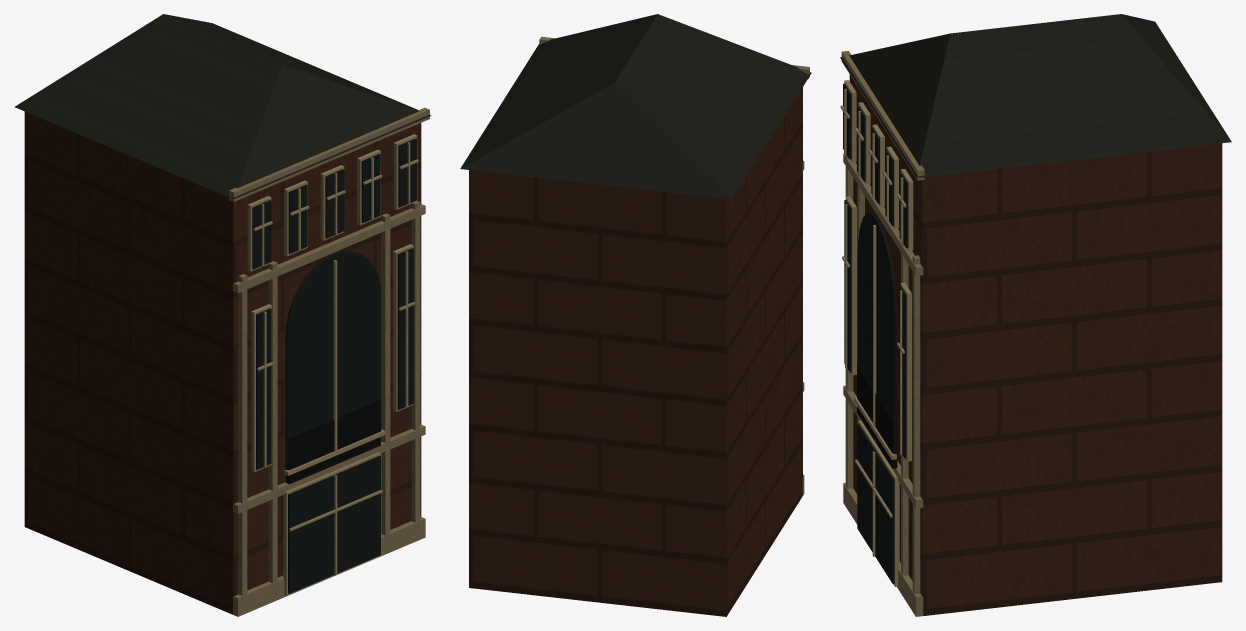
3 views of the same model, side by side, from view 1: azimuth 30°, elevation 25°; view 2: azimuth 150°, elevation 25°; view 3: azimuth 270°, elevation 25° (orthographic). The views are drawn at different scales.
Parts seen in each view (by area): view 1: asta-hoogstraat-0, asta-hoogstraat-1, asta-hoogstraat-5, asta-hoogstraat-2, asta-hoogstraat-4, asta-hoogstraat-3; view 2: asta-hoogstraat-0, asta-hoogstraat-1; view 3: asta-hoogstraat-0, asta-hoogstraat-1, asta-hoogstraat-5, asta-hoogstraat-2, asta-hoogstraat-4, asta-hoogstraat-3.
Boxes of the visible parts, bbox=[...] form: asta-hoogstraat-0: bbox=[24, 111, 421, 614]; asta-hoogstraat-1: bbox=[15, 14, 431, 199]; asta-hoogstraat-5: bbox=[252, 138, 416, 593]; asta-hoogstraat-2: bbox=[229, 107, 429, 616]; asta-hoogstraat-4: bbox=[247, 134, 418, 595]; asta-hoogstraat-3: bbox=[286, 399, 380, 484]; asta-hoogstraat-0: bbox=[469, 87, 802, 616]; asta-hoogstraat-1: bbox=[460, 14, 811, 199]; asta-hoogstraat-0: bbox=[849, 74, 1222, 615]; asta-hoogstraat-1: bbox=[840, 14, 1231, 177]; asta-hoogstraat-5: bbox=[843, 83, 908, 583]; asta-hoogstraat-2: bbox=[841, 51, 924, 616]; asta-hoogstraat-4: bbox=[840, 80, 913, 586]; asta-hoogstraat-3: bbox=[857, 365, 897, 468].
Size of the model in its own units: 11.9 by 18.4 by 12.61.
Materials: 6 (6 with a texture image).
